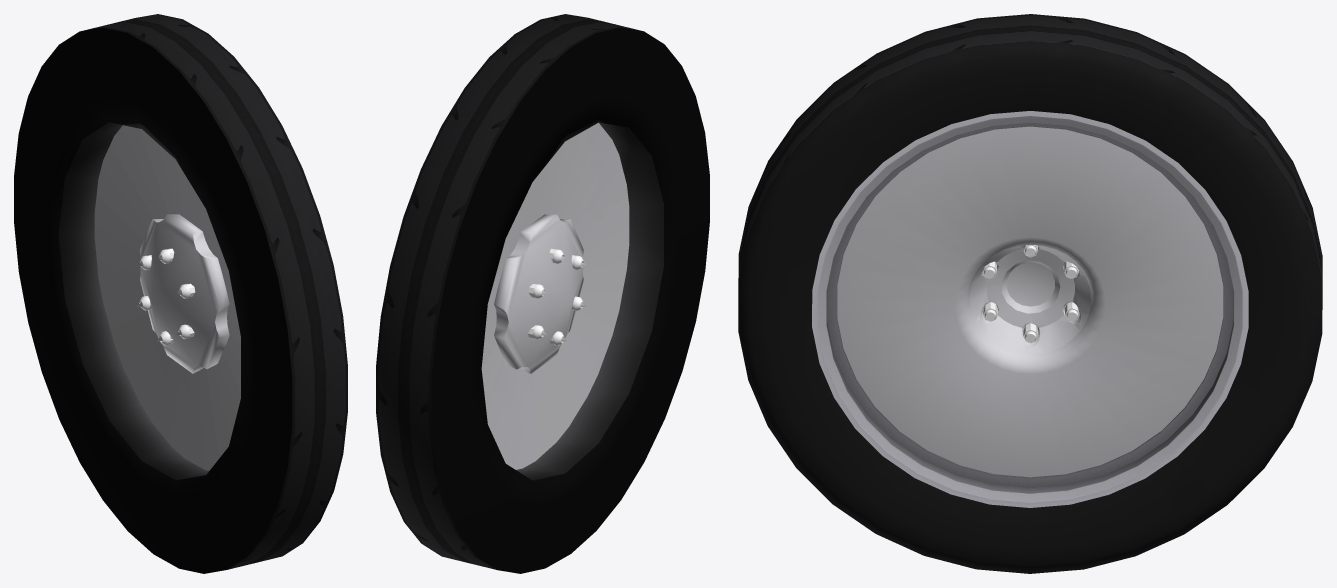
Rendered from Spare Tire 1.2.fbx.
3 renders of one model, left to right at view 1: azimuth 30°, elevation 25°; view 2: azimuth 150°, elevation 25°; view 3: azimuth 270°, elevation 25°, orthographic. The views are drawn at different scales.
Visible parts, largest first — view 1: Tocus_Wheel_Left_Back, Circle; view 2: Tocus_Wheel_Left_Back, Circle; view 3: Tocus_Wheel_Left_Back, Circle.
Boxes of the visible parts, x1,y1,x2,y2 form: Tocus_Wheel_Left_Back: (14, 14, 347, 573); Circle: (94, 125, 240, 470); Tocus_Wheel_Left_Back: (376, 14, 709, 573); Circle: (481, 122, 629, 469); Tocus_Wheel_Left_Back: (738, 14, 1322, 573); Circle: (837, 126, 1223, 477).
Size of the model in its own units: 8.29 by 61.7 by 61.44.
